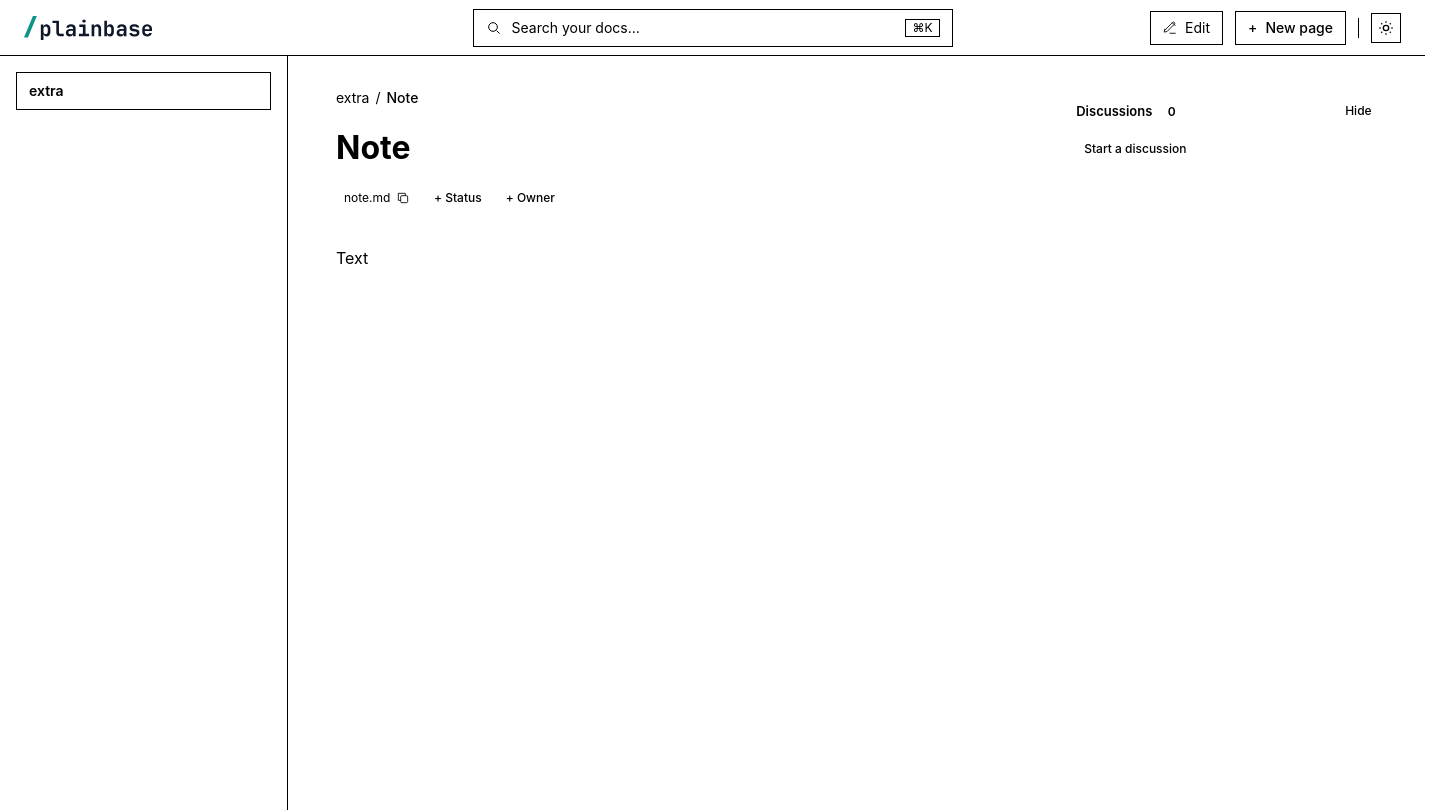
Test: Start a discussion uses a live page selection once, then defaults back to the page
The width and height of the screenshot is (1440, 810).
Click the button "Start a discussion" at (1135, 150), box [1076,137,1194,162]
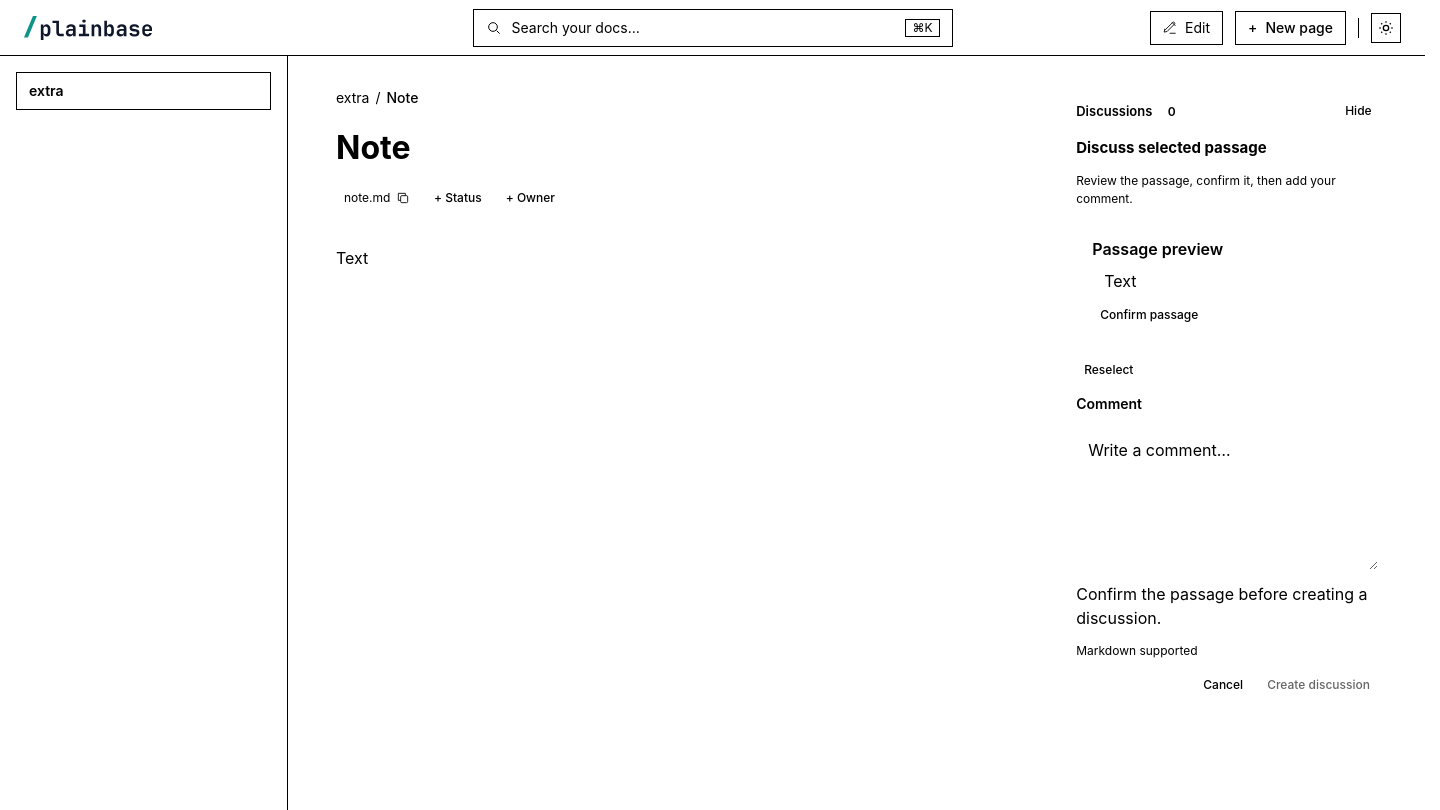
Now the text "Text" below "Passage preview" is shown, box [1104,271,1136,291]
Now the button "Create discussion" is disabled, box [1259,673,1378,698]
Click the button "Confirm passage" at (1149, 315), box [1092,303,1206,328]
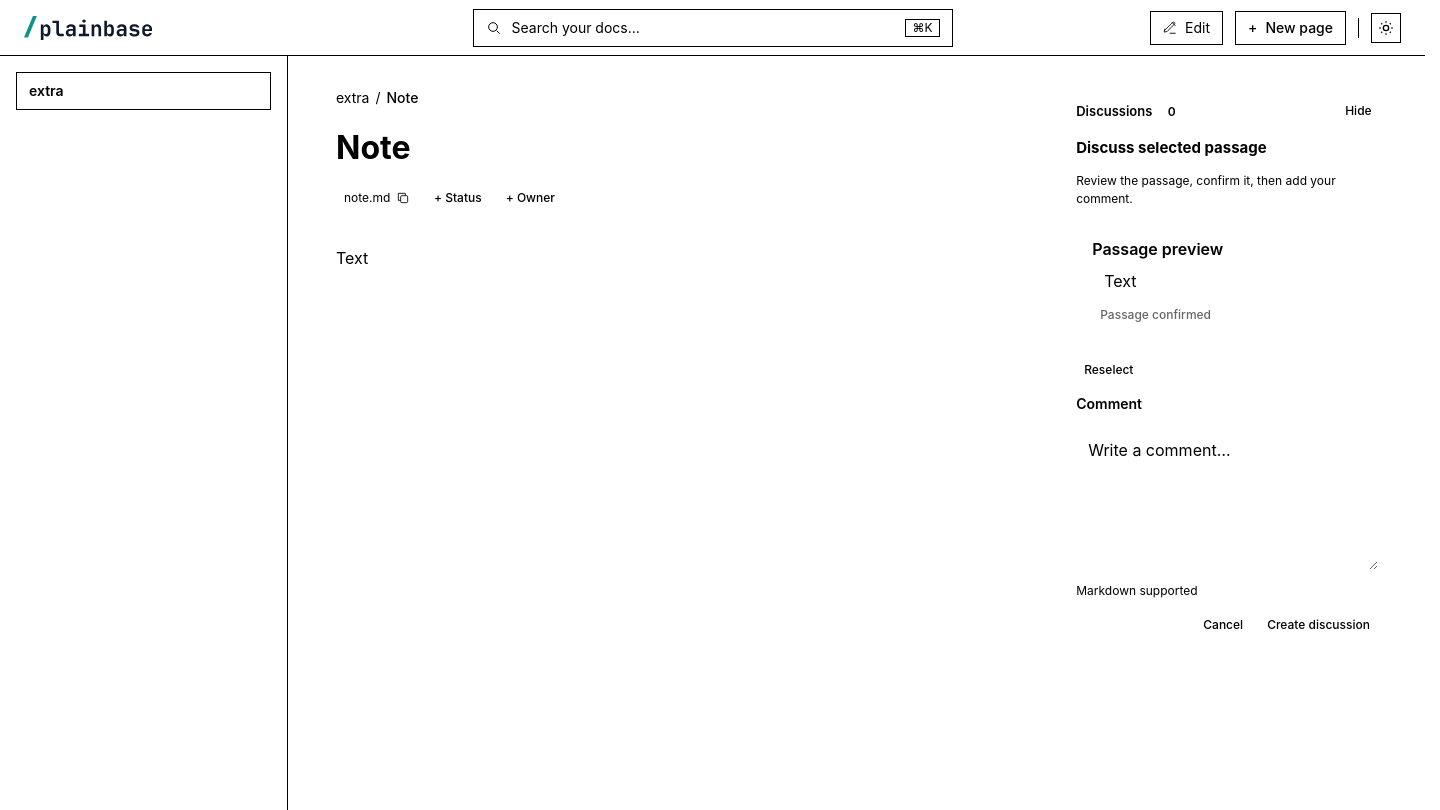
Type "A comment" into the text box labelled "Comment" at (1227, 498), box [1076,426,1378,570]
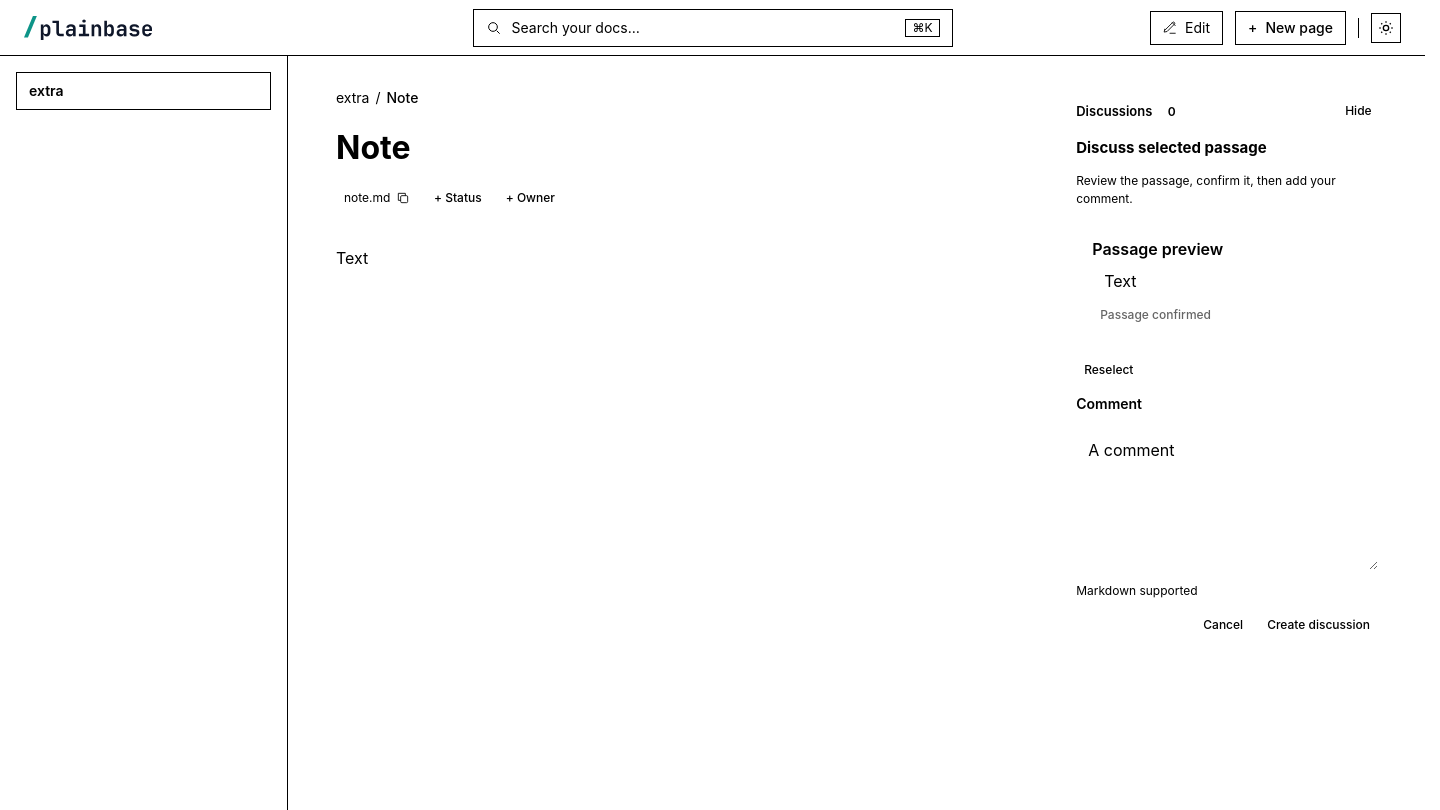
Now the button "Create discussion" is enabled, box [1259,613,1378,638]
Click the button "Cancel" at (1223, 625), box [1195,613,1251,638]
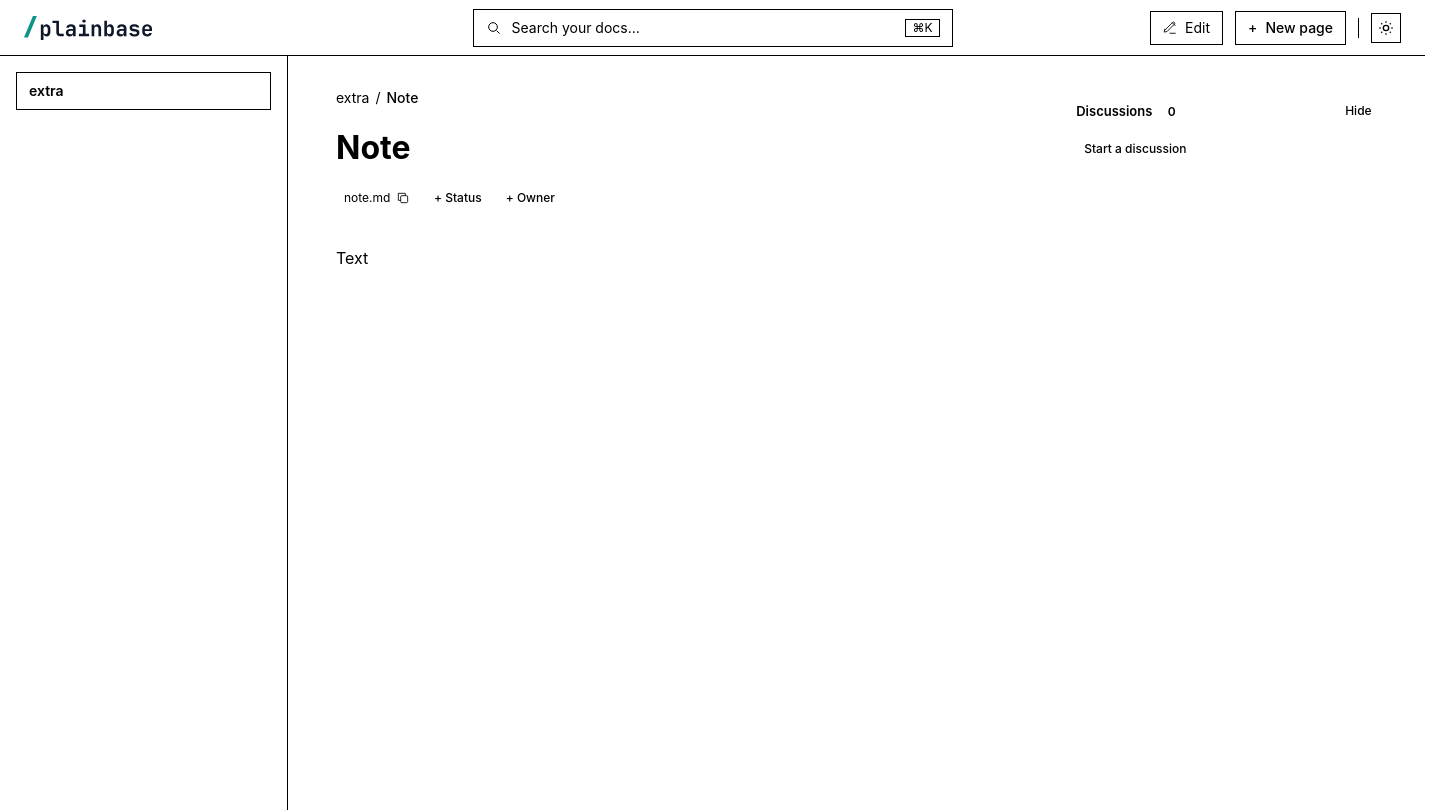
Click the button "Start a discussion" at (1135, 150), box [1076,137,1194,162]
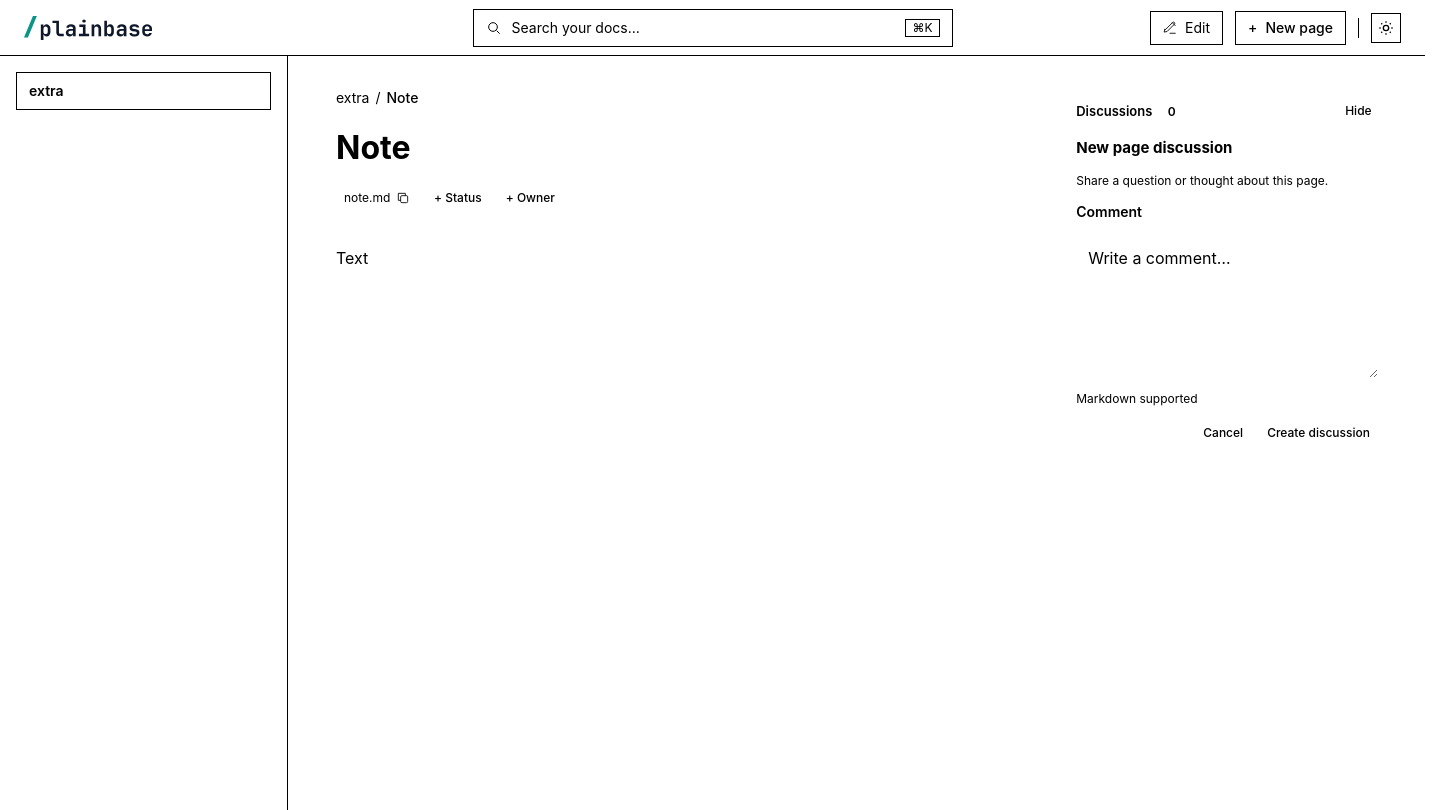
Now the heading "New page discussion" is shown, box [1076,138,1232,157]
